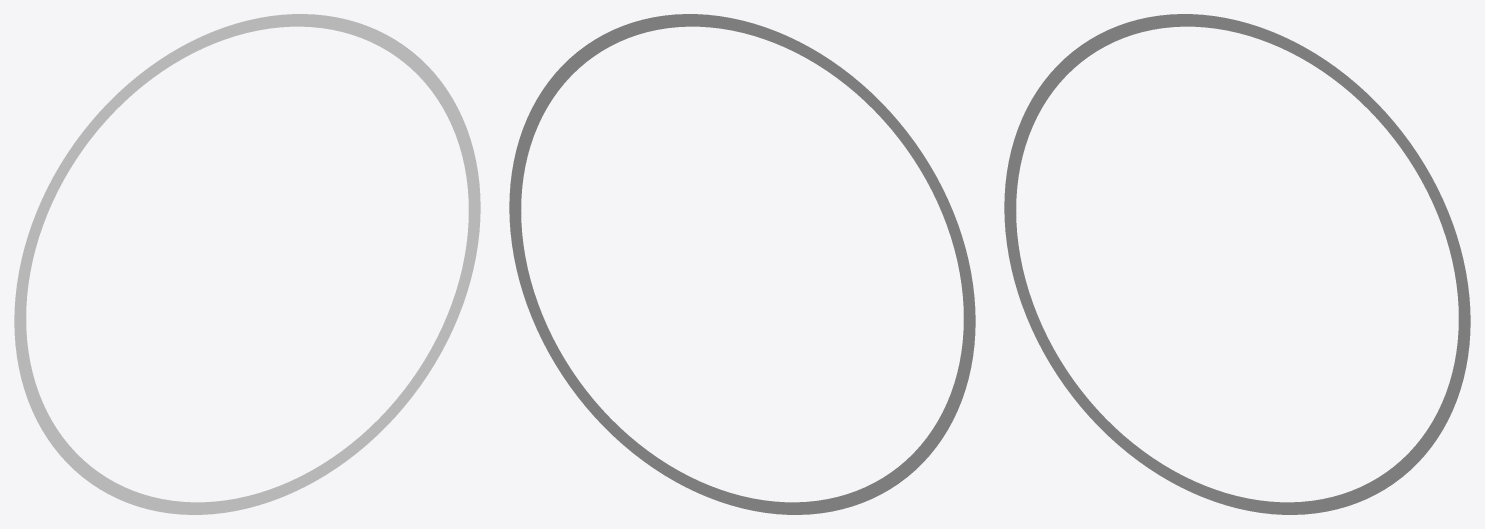
Rendered from PhotonRing.obj.
3 views of the same model, side by side, from view 1: azimuth 30°, elevation 25°; view 2: azimuth 150°, elevation 25°; view 3: azimuth 330°, elevation 25° (orthographic).
Parts seen in each view (by area): view 1: PhotonRing; view 2: PhotonRing; view 3: PhotonRing.
Boxes of the visible parts, x1,y1,x2,y2 form: PhotonRing: [14, 14, 480, 514]; PhotonRing: [509, 14, 975, 514]; PhotonRing: [1004, 14, 1470, 514].
Bounding box in the file's own units: 31.6 × 31.6 × 0.
1 material, 1 textured.
